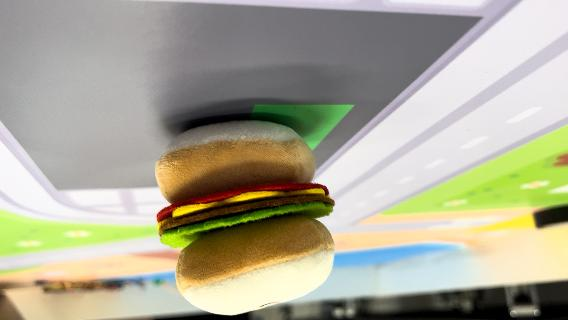sandwich: (152, 117, 340, 315)
